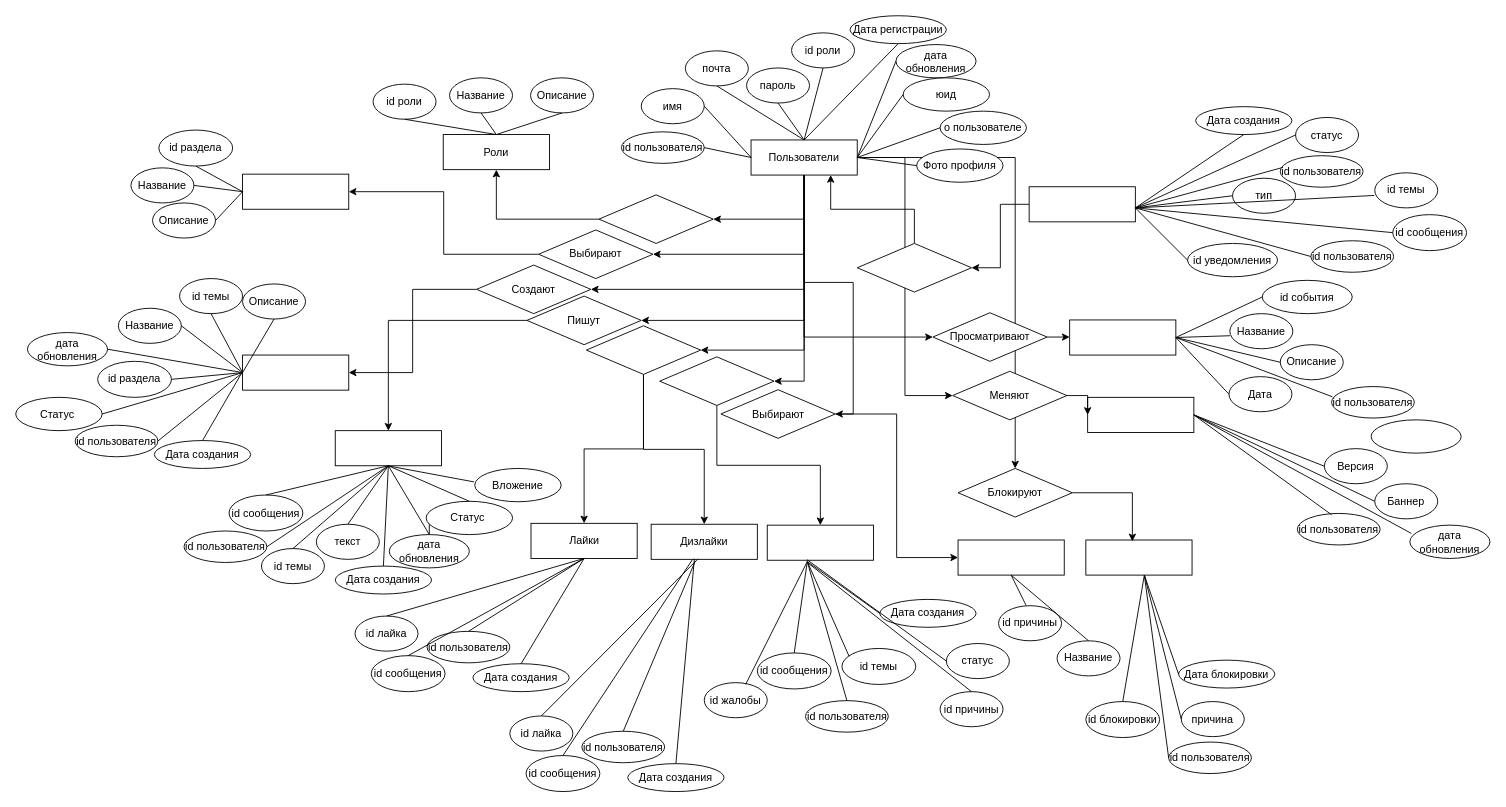
Some shapes in this 1506 by 807 pixel diagram are drawn without their labels. Here are the shapes that lost their labels. From the top down, the centre of each, then its label:
the point at 295,191: Разделы
the point at 1081,204: Уведомления
the point at 655,218: Имеют
the point at 914,267: Приходят
the point at 643,349: Ставят
the point at 1122,337: События
the point at 295,372: Темы
the point at 716,380: Оставляют
the point at 1140,414: Настройки
the point at 387,448: Сообщения
the point at 1415,436: id настройки
the point at 819,542: Жалобы
the point at 1010,557: Причины жалобы
the point at 1138,557: Заблокированные пользователи
